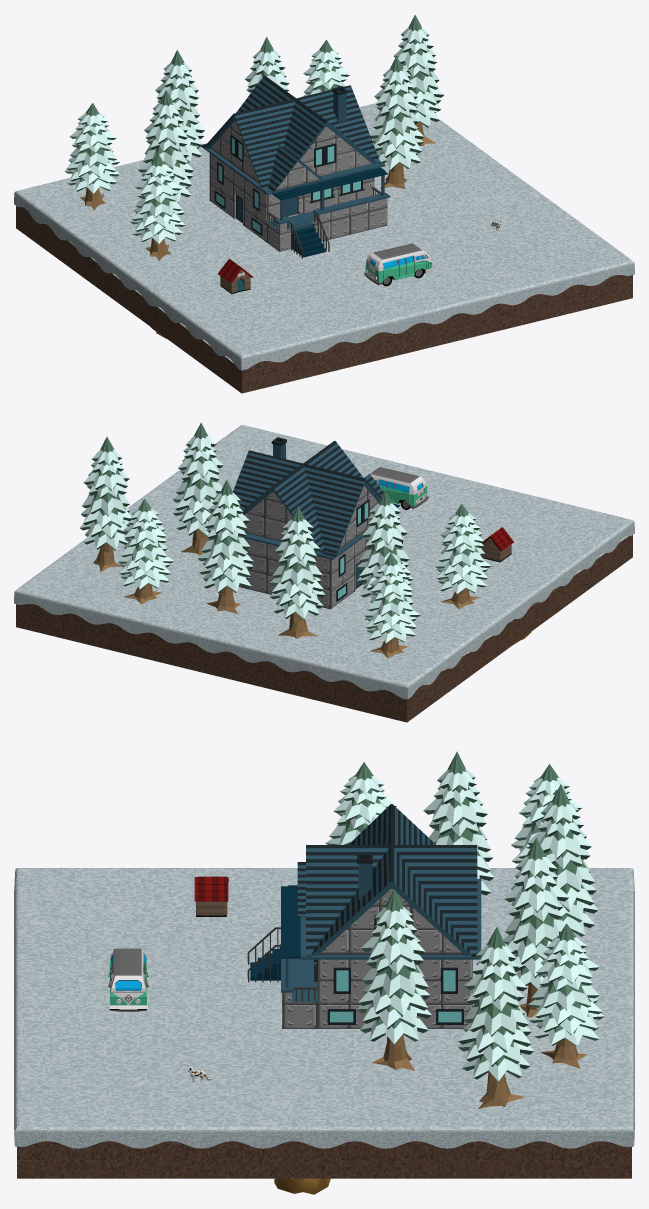
The picture shows the model from 3 angles, top to bottom: view 1: azimuth 30°, elevation 25°; view 2: azimuth 150°, elevation 25°; view 3: azimuth 270°, elevation 25°; orthographic projection. The views are drawn at different scales.
Visible parts, largest first — view 1: Cube.003, Cube.078, VEHICLES_VAN, OBJRANDOM_DOGHOUSE; view 2: Cube.003, Cube.078, VEHICLES_VAN, OBJRANDOM_DOGHOUSE; view 3: Cube.003, Cube.078, VEHICLES_VAN, OBJRANDOM_DOGHOUSE, UNDERGROUND_T_REX_BONES.
Boxes of the visible parts, x1,y1,x2,y2 form: Cube.003: [14, 15, 634, 393]; Cube.078: [201, 75, 390, 258]; VEHICLES_VAN: [364, 243, 433, 286]; OBJRANDOM_DOGHOUSE: [218, 259, 252, 294]; Cube.003: [14, 422, 634, 722]; Cube.078: [233, 437, 402, 609]; VEHICLES_VAN: [370, 467, 428, 509]; OBJRANDOM_DOGHOUSE: [481, 527, 513, 562]; Cube.003: [14, 751, 634, 1178]; Cube.078: [247, 804, 481, 1028]; VEHICLES_VAN: [108, 948, 148, 1011]; OBJRANDOM_DOGHOUSE: [194, 876, 228, 916]; UNDERGROUND_T_REX_BONES: [274, 1178, 330, 1194].
Bounding box in the file's own units: 4040 × 1805 × 4040.
Materials: 37 (5 with a texture image).
